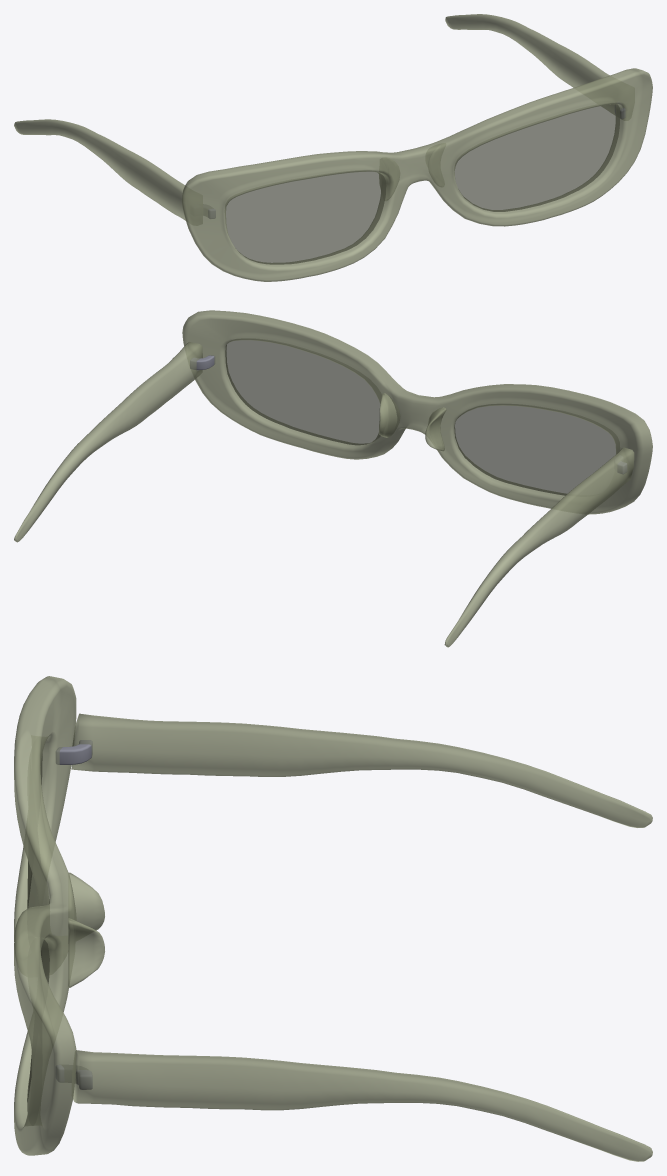
File: pandan.glb
The picture shows the model from 3 angles, top to bottom: view 1: azimuth 30°, elevation 25°; view 2: azimuth 150°, elevation 25°; view 3: azimuth 270°, elevation 25°; orthographic projection. The views are drawn at different scales.
Visible parts, largest first — view 1: model_1; view 2: model_1; view 3: model_1.
Part boxes in pixels (bbox=[...]): model_1: bbox=[14, 14, 652, 281]; model_1: bbox=[14, 310, 652, 647]; model_1: bbox=[14, 676, 652, 1161].
Bounding box in the file's own units: 1.85 × 0.4489 × 1.37.
